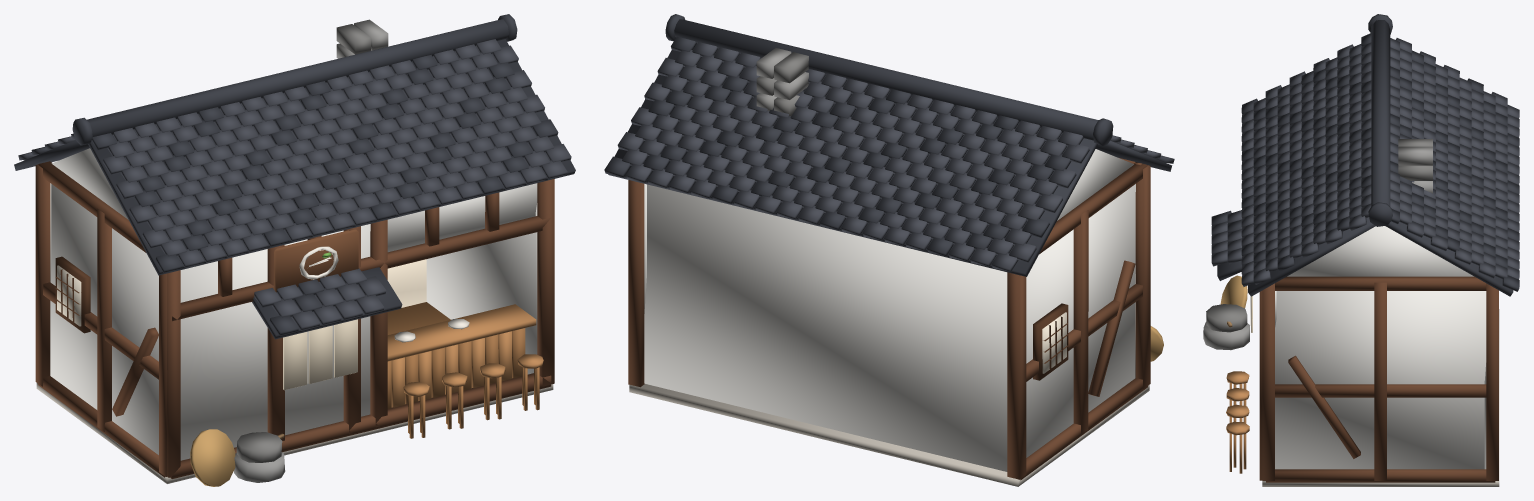
Rendered from soba.glb.
3 views of the same model, side by side, from view 1: azimuth 30°, elevation 25°; view 2: azimuth 150°, elevation 25°; view 3: azimuth 270°, elevation 25° (orthographic). The views are drawn at different scales.
Parts seen in each view (by area): view 1: soba; view 2: soba; view 3: soba.
Boxes of the visible parts, x1,y1,x2,y2 form: soba: (14, 14, 575, 486); soba: (604, 14, 1174, 486); soba: (1203, 14, 1519, 486).
Bounding box in the file's own units: 3.24 × 2.32 × 2.26.
